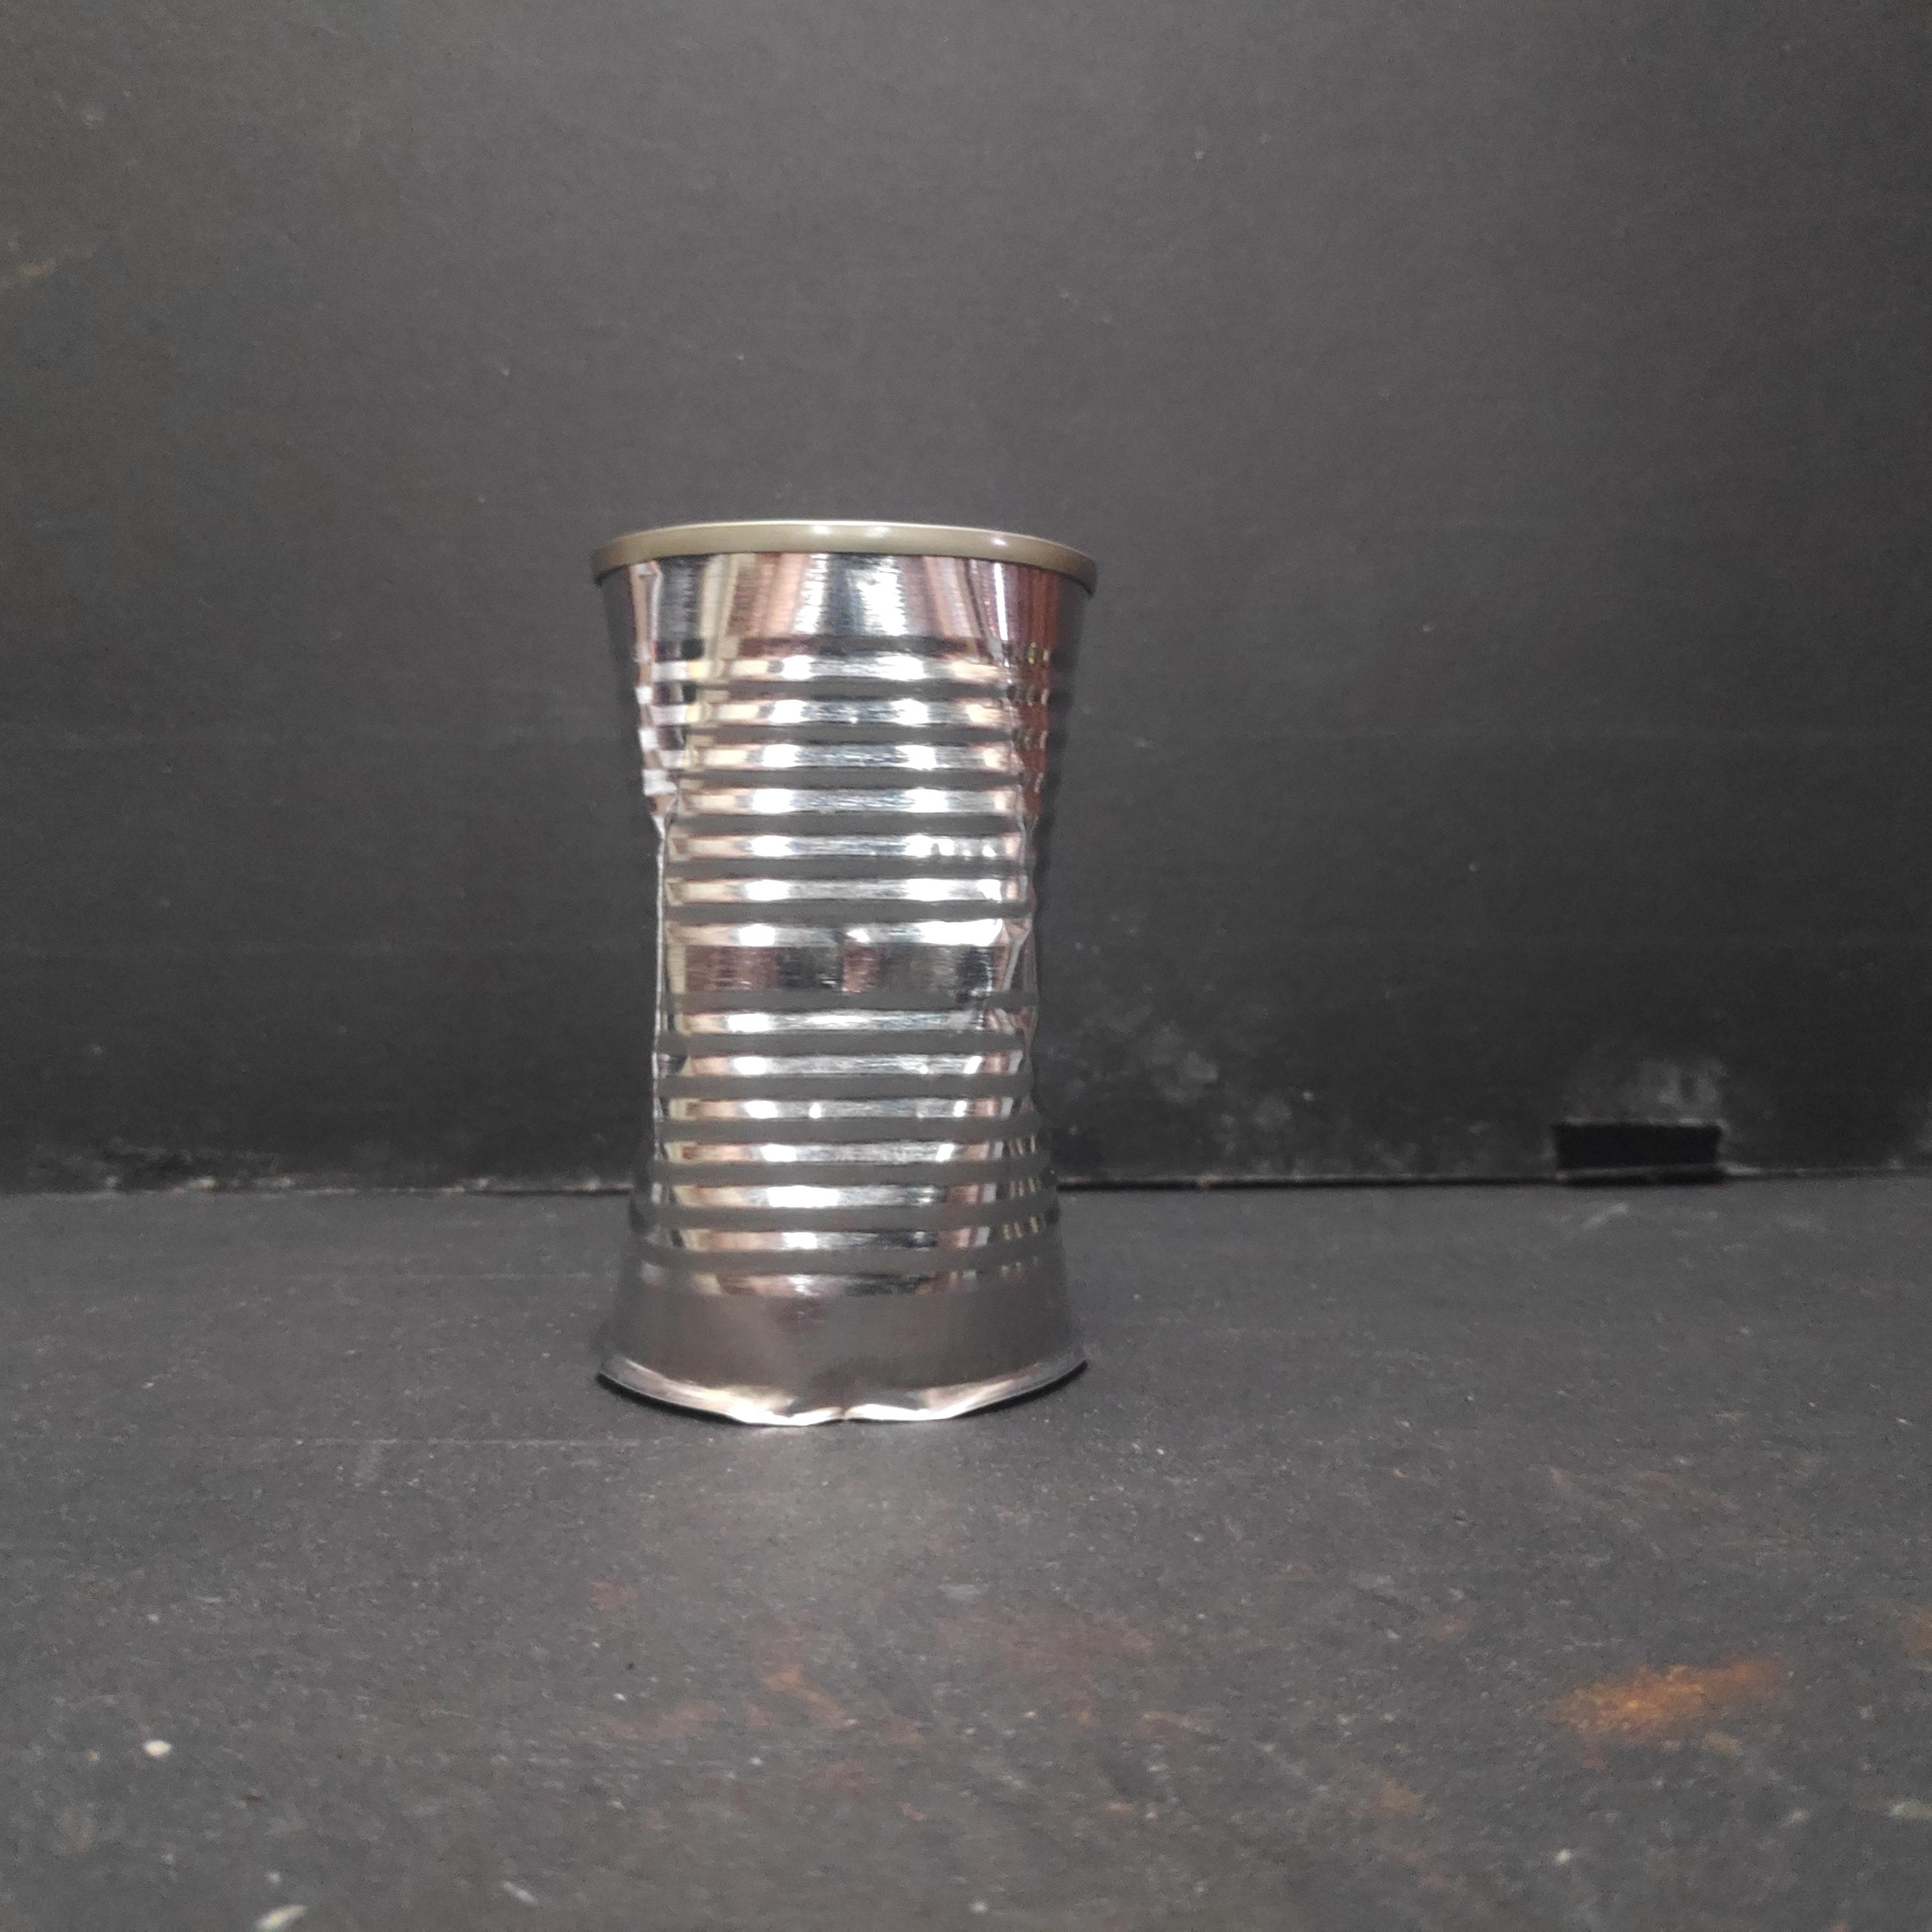Minor Defect: (582, 502, 1104, 1440)
